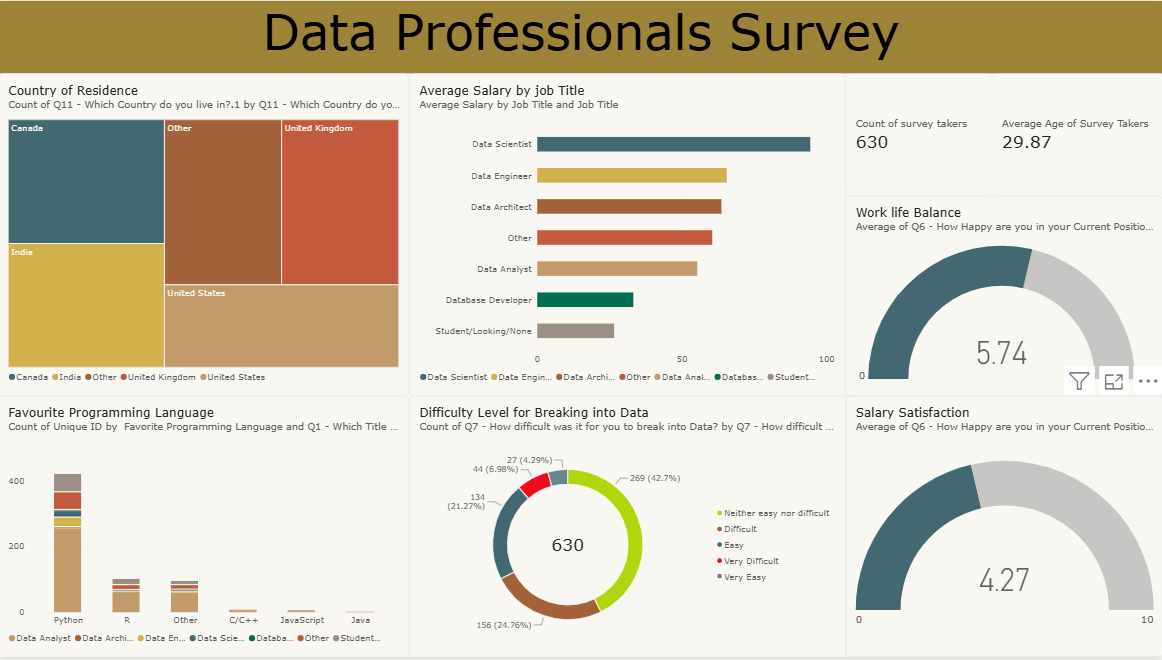

The dashboard page shown, as its layout file describes it:
{"tool":"powerbi","page":{"name":"Page 1","canvas":[1920,1080],"ordinal":0},"visuals":[{"type":"textbox","box":[0,0,1920.4,119.4],"z":0},{"type":"cardVisual","fields":{"Data":["Count(Data Professional Survey.Unique ID)"]},"box":[1395.5,119.4,240.8,201.7],"z":1},{"type":"cardVisual","fields":{"Data":["Avg(Data Professional Survey.Q10 - Current Age)"]},"box":[1636.4,119.4,284,201.7],"z":2},{"type":"barChart","title":"Average Salary by job Title","fields":{"Category":["Data Professional Survey.Q1 - Which Title Best Fits your Current Role?.1"],"Series":["Data Professional Survey.Q1 - Which Title Best Fits your Current Role?.1"],"Y":["Avg(Data Professional Survey.Average Salary)"]},"box":[677.2,119.4,718.4,531],"z":3},{"type":"columnChart","title":"Favourite Programming Language","fields":{"Category":["Data Professional Survey.Q5 - Favorite Programming Language.1"],"Series":["Data Professional Survey.Q1 - Which Title Best Fits your Current Role?.1"],"Y":["CountNonNull(Data Professional Survey.Unique ID)"]},"box":[0,650.4,677.2,430.2],"z":4},{"type":"treemap","title":"Country of Residence","fields":{"Group":["Data Professional Survey.Q11 - Which Country do you live in?.1"],"Values":["Count(Data Professional Survey.Q11 - Which Country do you live in?.1)"]},"box":[0,119.4,677.2,531],"z":5},{"type":"gauge","title":"Work life Balance","fields":{"MaxValue":["Max(Data Professional Survey.Q6 - How Happy are you in your Current Position with the following? (Work/Life Balance))"],"MinValue":["Min(Data Professional Survey.Q6 - How Happy are you in your Current Position with the following? (Work/Life Balance))"],"Y":["Avg(Data Professional Survey.Q6 - How Happy are you in your Current Position with the following? (Work/Life Balance))"]},"box":[1395.5,321.1,524.9,329.3],"z":6},{"type":"gauge","title":"Salary Satisfaction","fields":{"MaxValue":["Max(Data Professional Survey.Q6 - How Happy are you in your Current Position with the following? (Salary))2"],"MinValue":["Min(Data Professional Survey.Q6 - How Happy are you in your Current Position with the following? (Salary))1"],"Y":["Avg(Data Professional Survey.Q6 - How Happy are you in your Current Position with the following? (Salary))"]},"box":[1395.5,650.4,524.9,430.2],"z":7},{"type":"donutChart","title":"Difficulty Level for Breaking into Data","fields":{"Category":["Data Professional Survey.Q7 - How difficult was it for you to break into Data?"],"Y":["CountNonNull(Data Professional Survey.Q7 - How difficult was it for you to break into Data?)"]},"box":[677.2,650.4,718.4,430.2],"z":8}]}

Visuals, with their boxes in screenshot pixels (x1, y1, x2, y2), scaled from the page's 1920x1080 canvas onto the 1162x660 screenshot:
textbox: [0, 0, 1161, 73]
cardVisual - Count(Data Professional Survey.Unique ID): [845, 73, 990, 196]
cardVisual - Avg(Data Professional Survey.Q10 - Current Age): [990, 73, 1161, 196]
"Average Salary by job Title" barChart: [410, 73, 845, 397]
"Favourite Programming Language" columnChart: [0, 397, 410, 659]
"Country of Residence" treemap: [0, 73, 410, 397]
"Work life Balance" gauge: [845, 196, 1161, 397]
"Salary Satisfaction" gauge: [845, 397, 1161, 659]
"Difficulty Level for Breaking into Data" donutChart: [410, 397, 845, 659]
